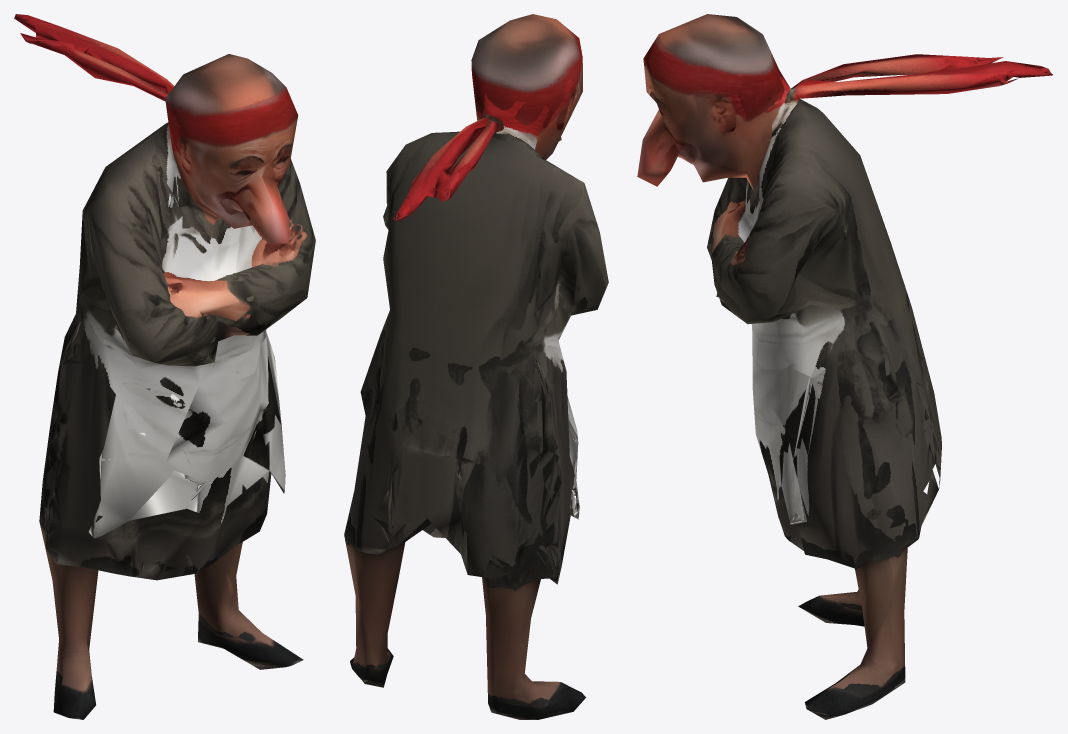
The model's file is villager_butcher_single_1500.glb.
The picture shows the model from 3 angles, left to right: view 1: azimuth 30°, elevation 25°; view 2: azimuth 150°, elevation 25°; view 3: azimuth 270°, elevation 25°; orthographic projection. The views are drawn at different scales.
Bounding box in the file's own units: 0.3 × 0.8211 × 0.4802.
1 material, 1 textured.
